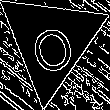O_NW: (23, 9, 79, 74)
